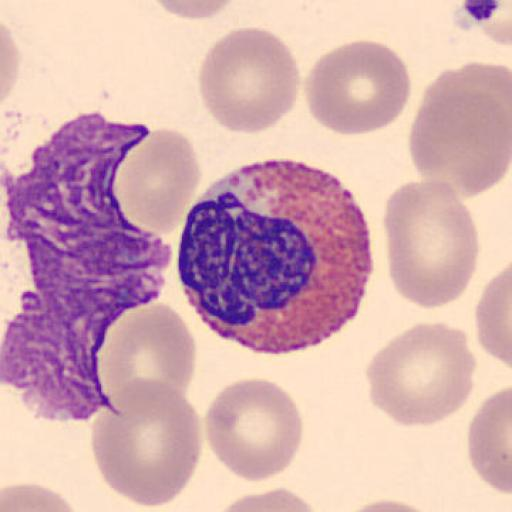RBC: (89, 376, 203, 508), (408, 62, 512, 198), (382, 176, 480, 312), (365, 320, 477, 429), (98, 302, 198, 417), (197, 26, 301, 136), (204, 376, 305, 484), (303, 38, 412, 137), (114, 125, 202, 237), (468, 384, 512, 498), (475, 261, 512, 371), (212, 485, 324, 512), (451, 0, 512, 47), (1, 479, 80, 512), (153, 0, 242, 21), (0, 19, 21, 106), (334, 496, 438, 512)
WBC: (0, 124, 176, 424), (0, 107, 176, 344), (175, 157, 373, 356)
